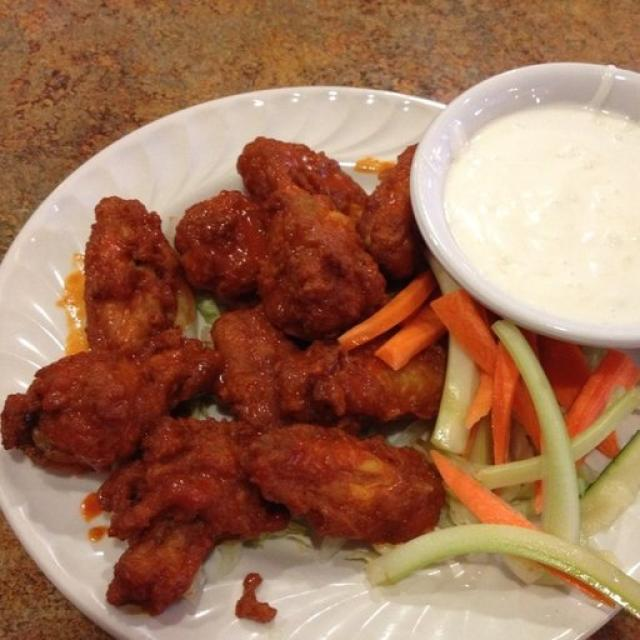Frango: (229, 140, 404, 327), (8, 315, 218, 463), (238, 408, 449, 551)
